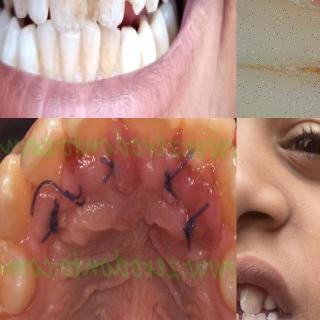maligned: (20, 118, 68, 202), (114, 118, 180, 163), (178, 118, 236, 168), (66, 118, 124, 166)
stains: (89, 0, 129, 31), (71, 30, 92, 82), (99, 32, 121, 78), (115, 36, 133, 80), (50, 30, 65, 80), (52, 0, 87, 20), (30, 36, 46, 76), (166, 18, 178, 46), (151, 36, 162, 64), (145, 50, 147, 54)
